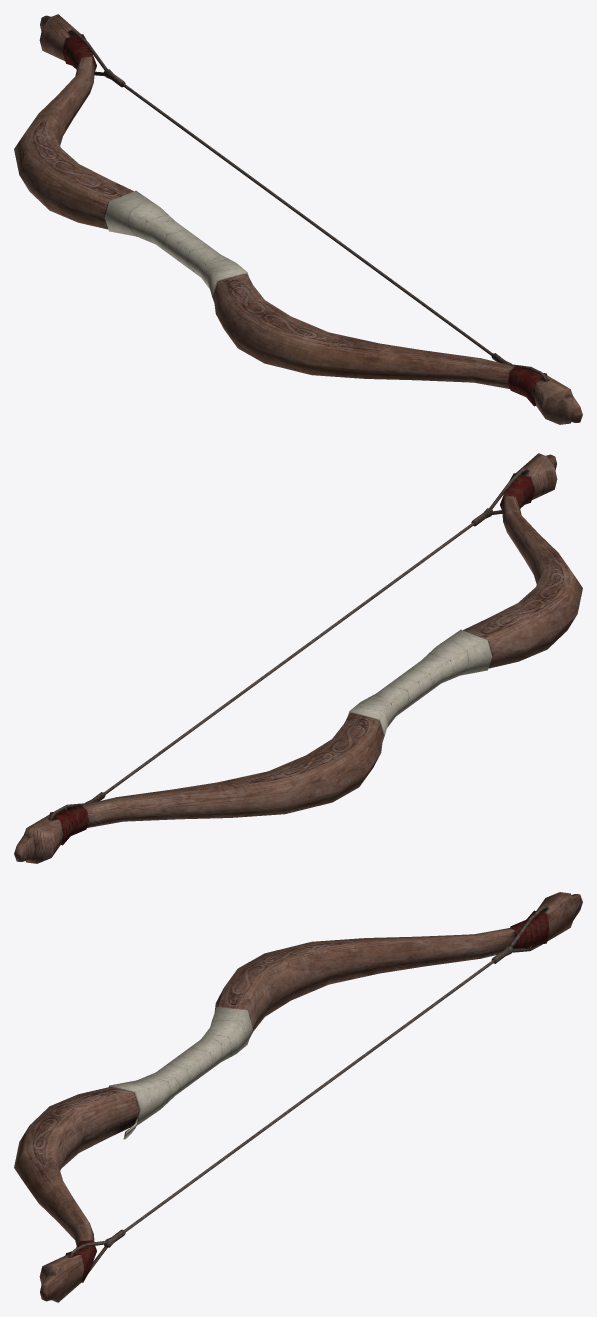
Rendered from Archer_Lv1_Bow.fbx.
The picture shows the model from 3 angles, top to bottom: view 1: azimuth 30°, elevation 25°; view 2: azimuth 150°, elevation 25°; view 3: azimuth 330°, elevation 25°; orthographic projection.
Parts seen in each view (by area): view 1: Bow_002; view 2: Bow_002; view 3: Bow_002.
Part boxes in pixels (x1=…): Bow_002: x1=14, y1=14, x2=582, y2=424; Bow_002: x1=14, y1=453, x2=582, y2=863; Bow_002: x1=14, y1=892, x2=582, y2=1302.
Size of the model in its own units: 22.93 by 5.57 by 116.
